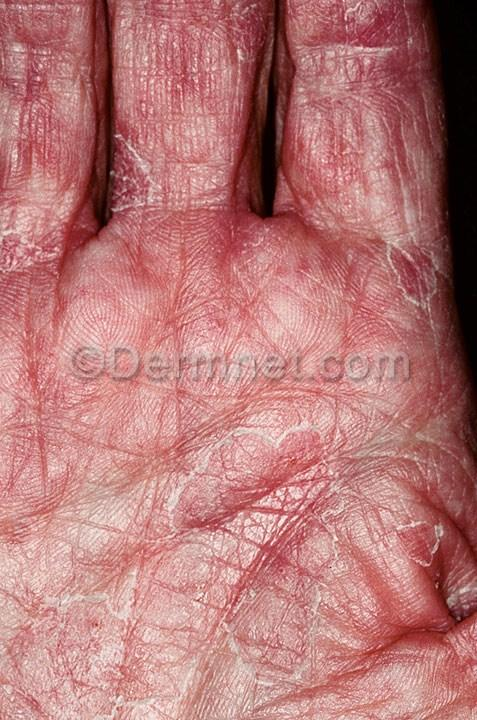Eczema: (200, 229, 435, 496), (220, 526, 453, 720), (0, 268, 182, 514), (7, 537, 197, 720), (120, 8, 258, 169), (292, 54, 427, 185)
